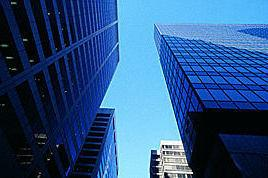building: (0, 0, 121, 178), (153, 22, 268, 178), (62, 106, 121, 178), (150, 140, 194, 178)
